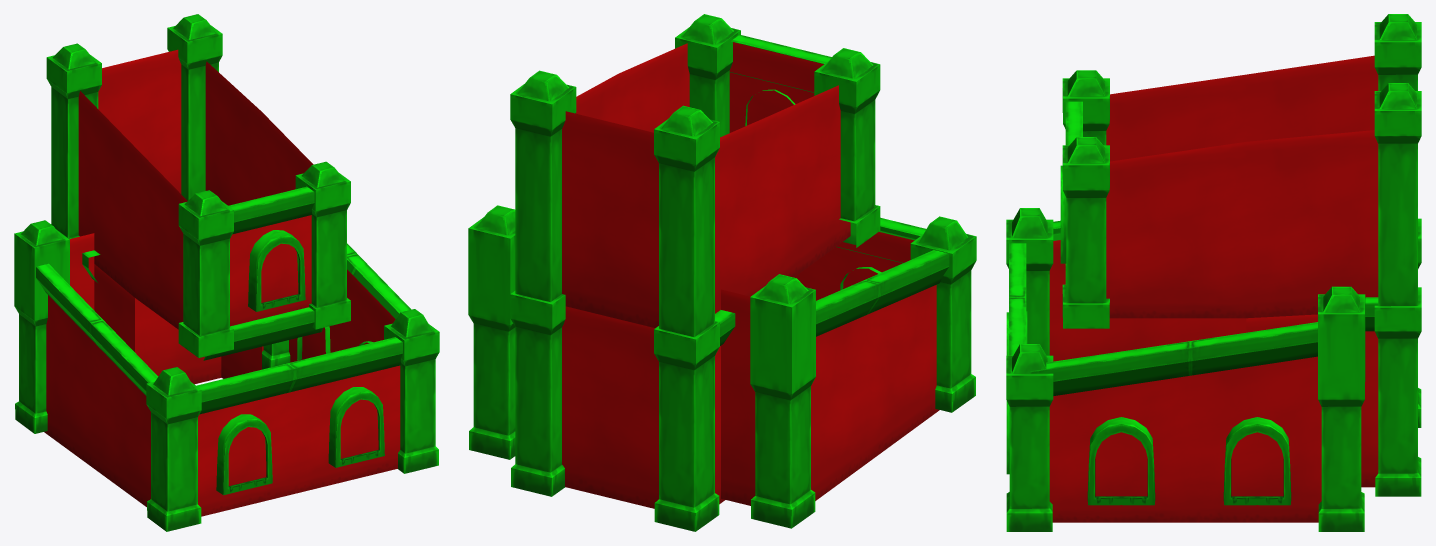
Rendered from Pri_Urban_House04.fbx.
3 renders of one model, left to right at view 1: azimuth 30°, elevation 25°; view 2: azimuth 150°, elevation 25°; view 3: azimuth 270°, elevation 25°, orthographic. The views are drawn at different scales.
Parts seen in each view (by area): view 1: Pri_Urban_House04; view 2: Pri_Urban_House04; view 3: Pri_Urban_House04.
Boxes of the visible parts, x1,y1,x2,y2 form: Pri_Urban_House04: [14, 14, 439, 531]; Pri_Urban_House04: [468, 14, 976, 531]; Pri_Urban_House04: [1006, 14, 1421, 531].
Bounding box in the file's own units: 1847 × 2242 × 2086.
1 material, 1 textured.
